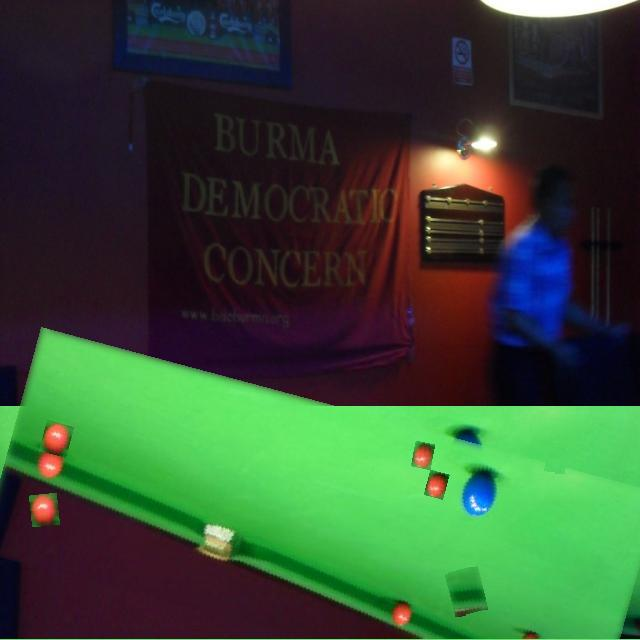Ball: (448, 568, 486, 616), (30, 494, 59, 526), (412, 442, 434, 470), (544, 448, 566, 473)
Billiard table: (0, 366, 640, 640)
